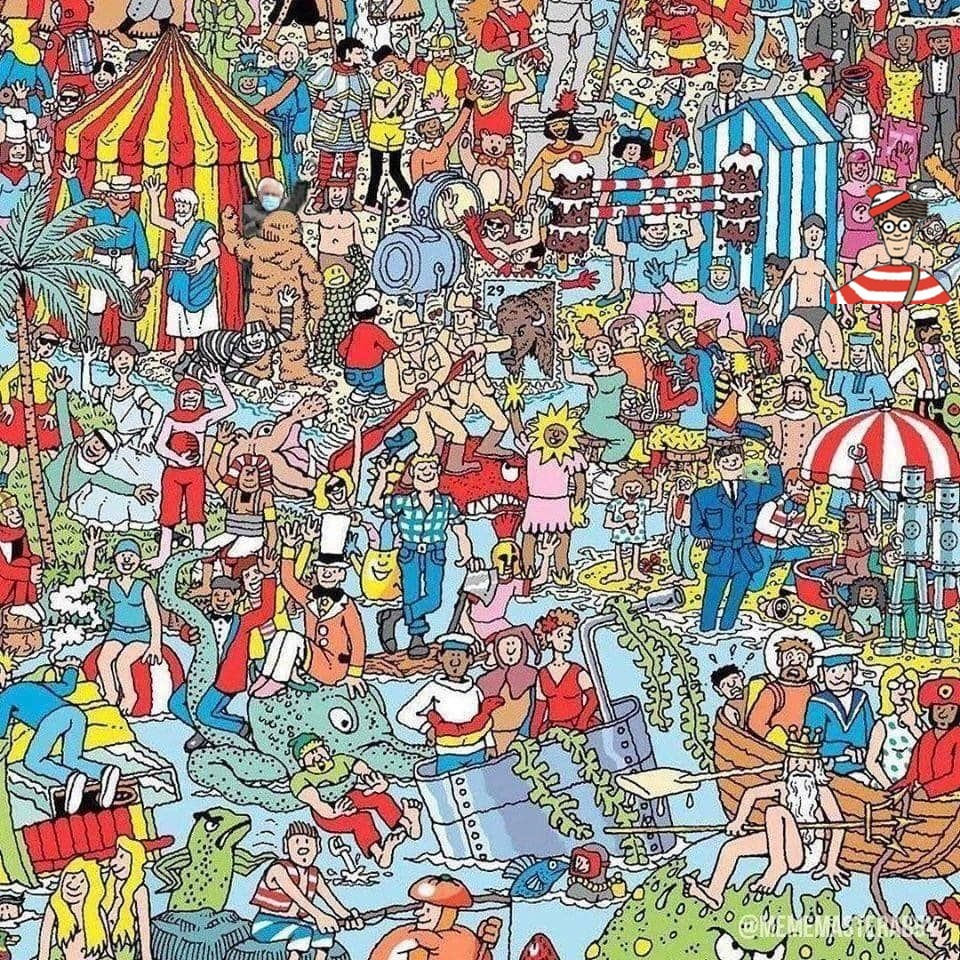waldo: (830, 181, 953, 304)
